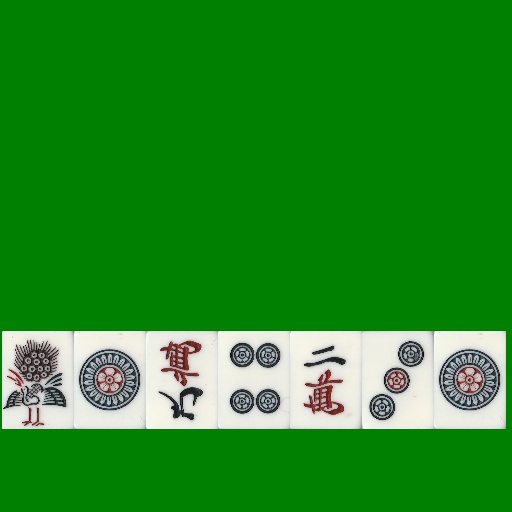1p: (74, 331, 146, 429), (434, 331, 506, 429)
1s: (2, 331, 74, 429)
2m: (290, 331, 362, 429)
3p: (362, 331, 434, 429)
4p: (218, 331, 290, 429)
9m: (146, 331, 218, 429)
